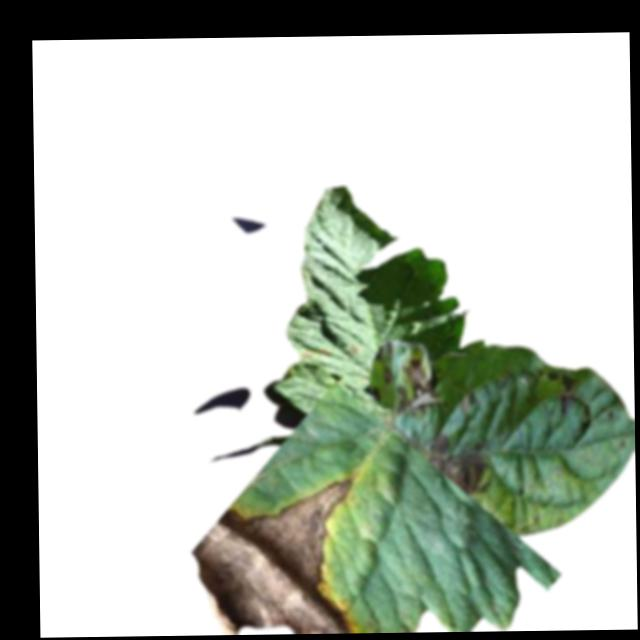Early_blight: (188, 474, 356, 635), (418, 431, 483, 495), (393, 356, 442, 420), (545, 370, 580, 414), (305, 342, 334, 361), (383, 361, 394, 385)
